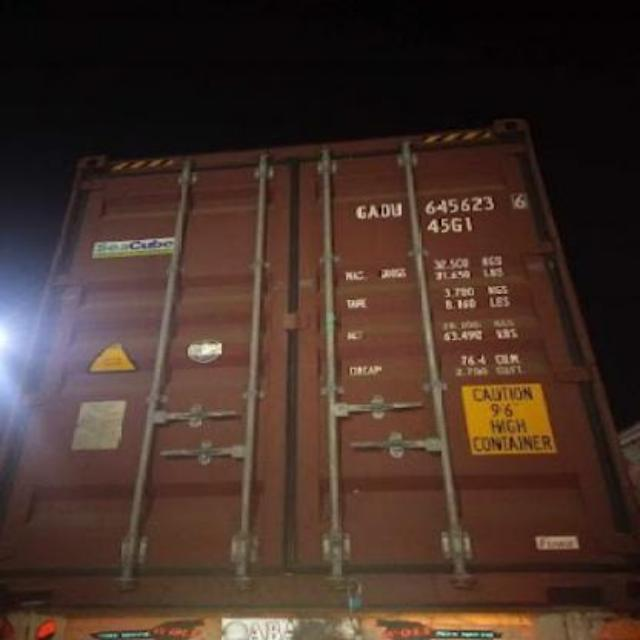2: (470, 179, 486, 215)
3: (482, 180, 496, 212)
4: (436, 182, 449, 214)
5: (446, 178, 462, 214)
6: (458, 182, 472, 215), (512, 192, 532, 210), (422, 192, 438, 214)
A: (366, 197, 376, 226)
G: (354, 196, 368, 220)
O: (378, 196, 390, 224)
U: (388, 192, 404, 218)
